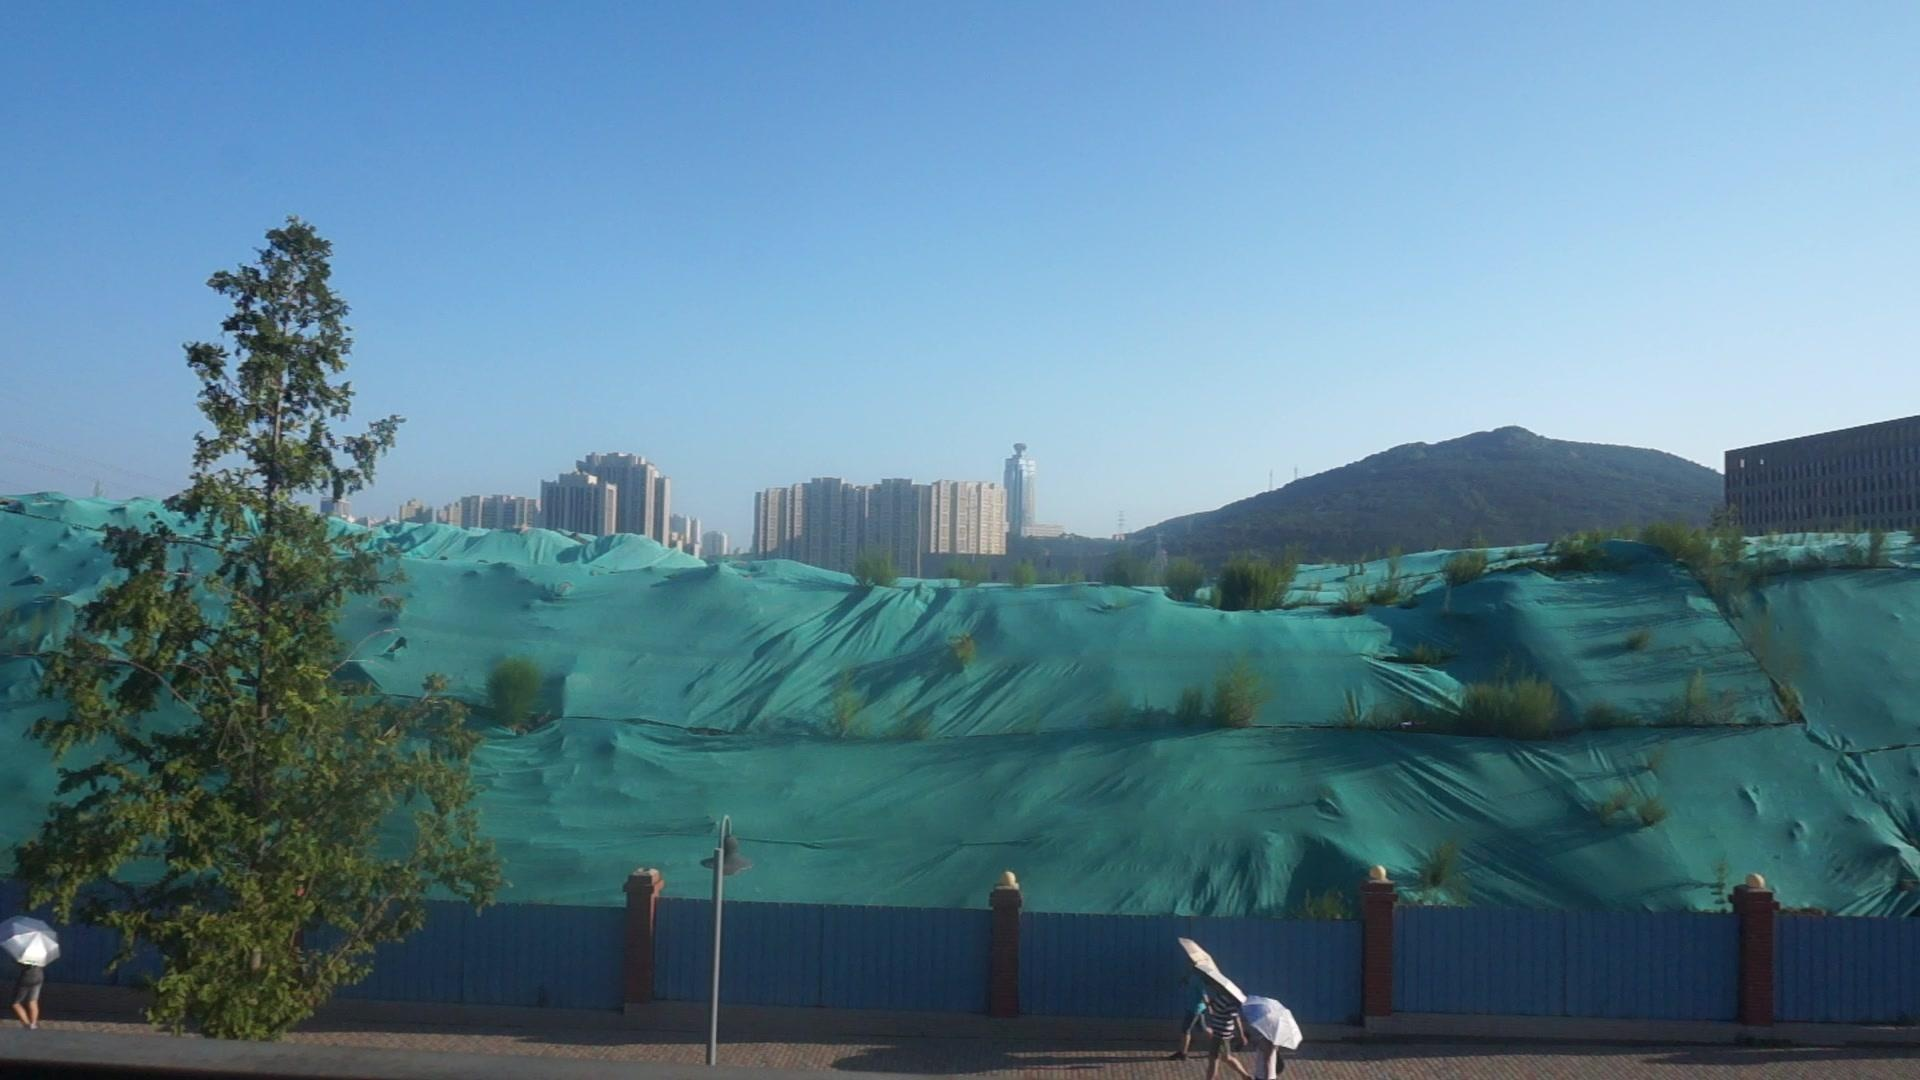UAV: (1385, 719, 1429, 731)
